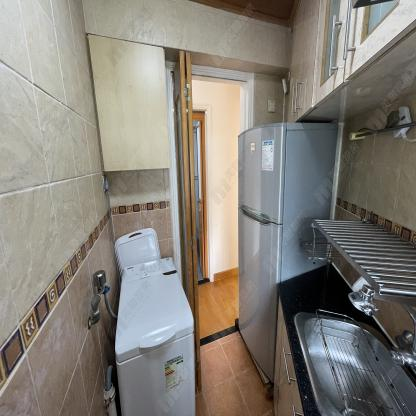Fridge: (239, 121, 337, 378)
Sink: (296, 315, 404, 415)
Washing Machine: (115, 256, 197, 416)
